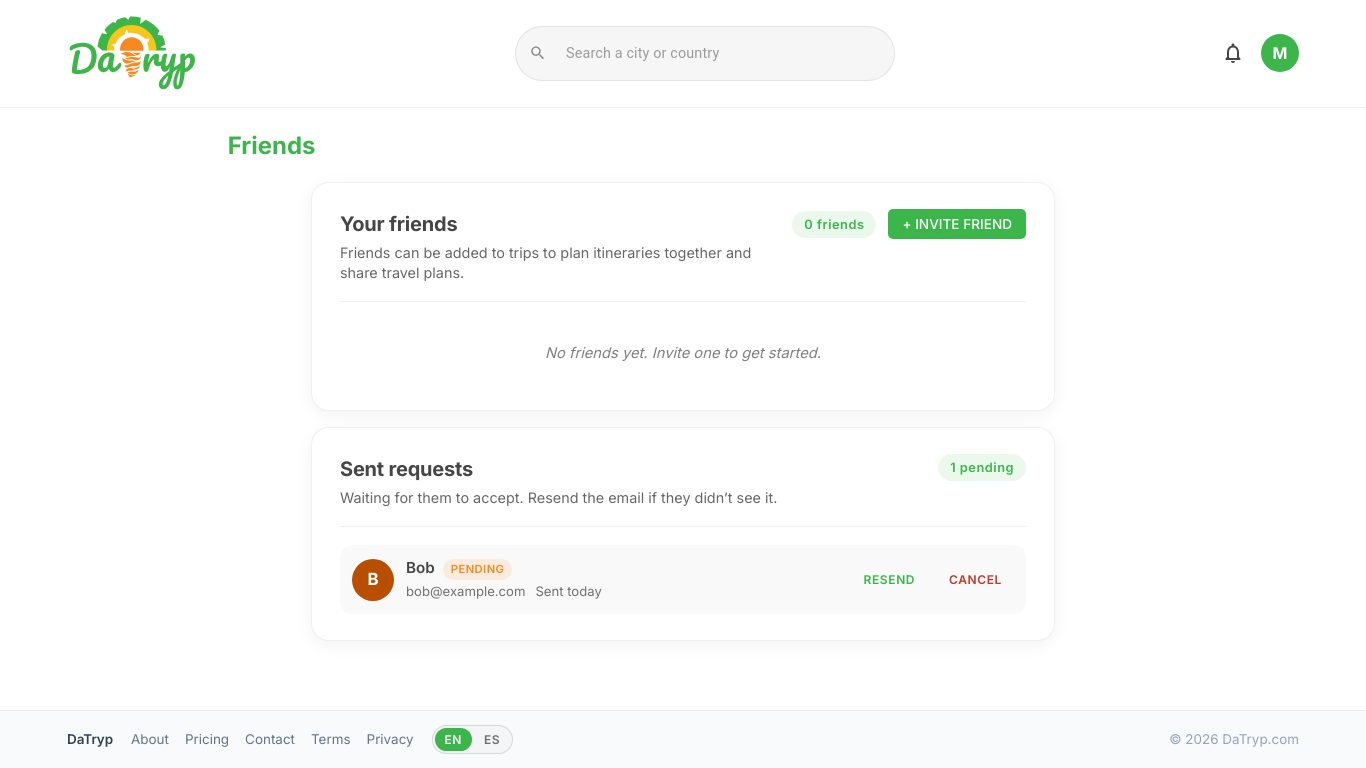
Test case: Friends › resends an outgoing request and surfaces the success toast
expect the heading "Sent requests" is shown: met, box [340,457,473,481]
expect the text "Pending" is shown: met, box [443,559,512,580]
Click the button "Resend": [889, 580] box [852,565,927,595]
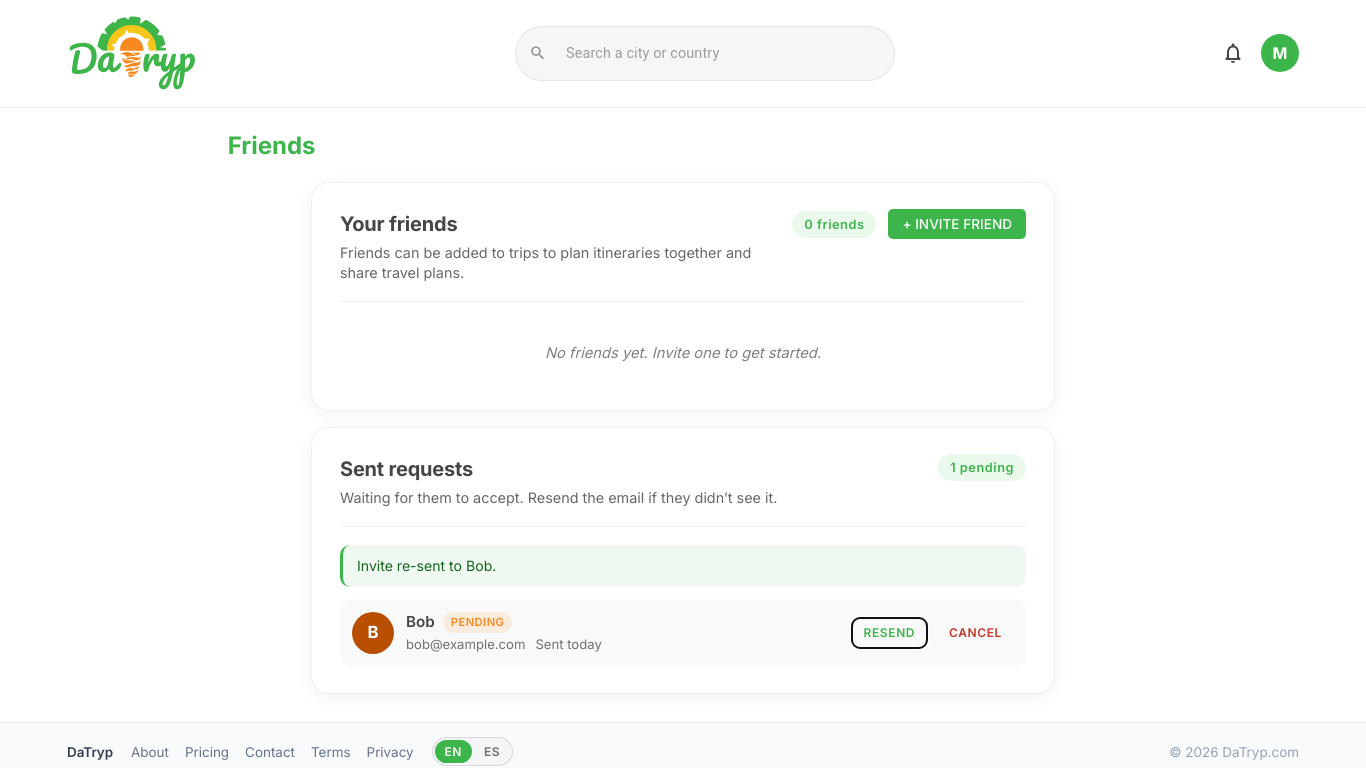
expect the message shows "re-sent to Bob": met, box [357,558,496,574]
